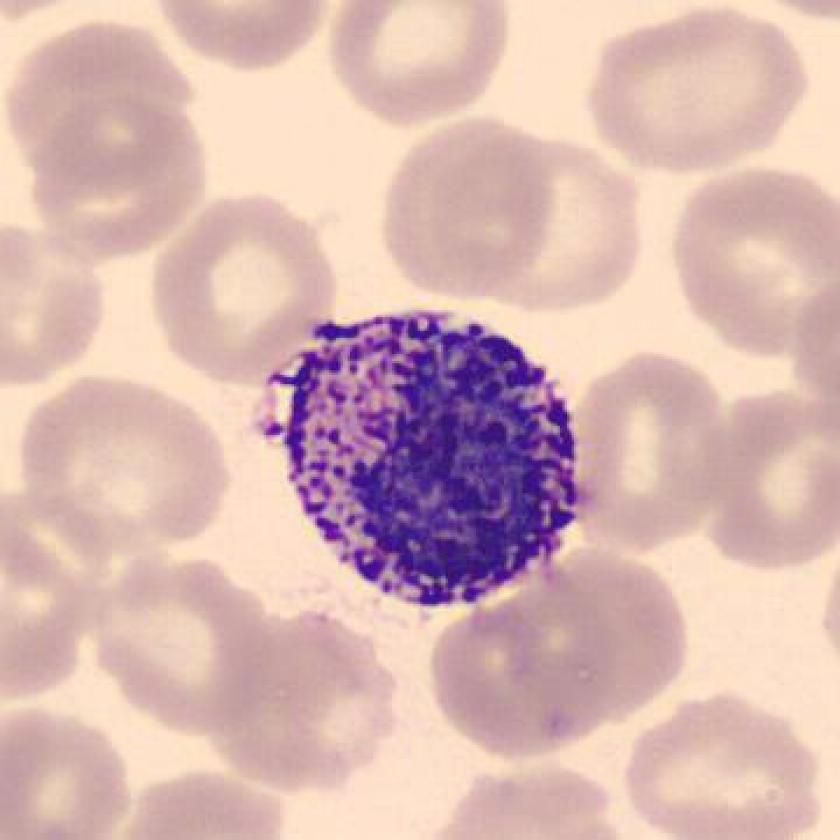basophil: (272, 304, 587, 621)
